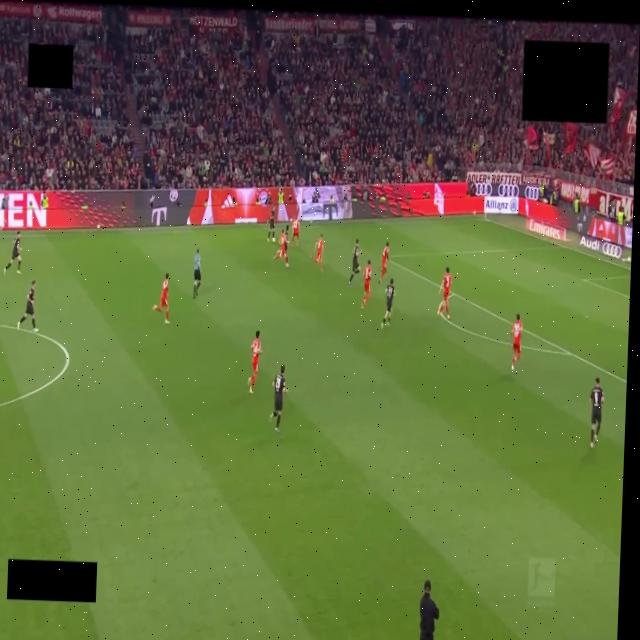ball: (272, 238, 276, 243)
player: (270, 365, 287, 433), (17, 282, 38, 332), (590, 378, 604, 448), (248, 330, 261, 393), (153, 274, 169, 325), (509, 315, 522, 371), (4, 232, 21, 274), (381, 279, 395, 328), (438, 267, 451, 319), (361, 260, 372, 309), (274, 230, 288, 267), (349, 240, 360, 284), (379, 243, 389, 283), (314, 234, 324, 272), (268, 207, 275, 241), (291, 219, 299, 245), (286, 224, 289, 242)
referee: (193, 249, 201, 298)
